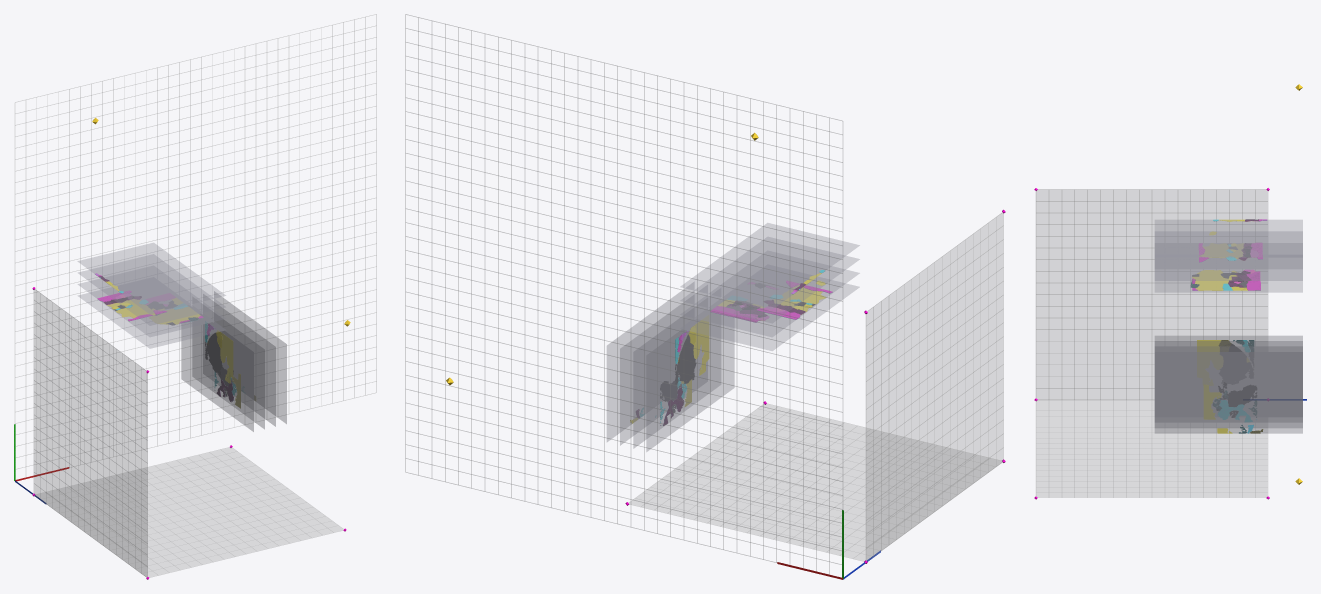
Rendered from shards.obj.
3 views of the same model, side by side, from view 1: azimuth 30°, elevation 25°; view 2: azimuth 150°, elevation 25°; view 3: azimuth 270°, elevation 25° (orthographic). The views are drawn at different scales.
Visible parts, largest first — view 1: wall_A, wall_B, grid_floor, panel_B3, panel_B2, panel_A0, panel_A1, panel_A3, panel_A2, panel_B1, panel_B0, Y (+4 smaller); view 2: wall_A, wall_B, grid_floor, panel_B3, panel_A0, panel_B2, panel_A1, panel_A3, panel_A2, panel_B1, panel_B0, grid_wallA (+4 smaller); view 3: wall_A, wall_B, panel_A2, panel_A3, panel_B2, panel_B3, grid_wallA, panel_B1, panel_B0, Y, K, panel_A1 (+4 smaller).
Part boxes in pixels (box(x1,y1,x2,y2)): wall_A: box(34, 290, 147, 576); wall_B: box(36, 447, 343, 577); grid_floor: box(15, 14, 376, 469); panel_B3: box(77, 243, 225, 313); panel_B2: box(78, 254, 225, 325); panel_A0: box(181, 322, 253, 431); panel_A1: box(192, 311, 264, 429); panel_A3: box(214, 291, 286, 423); panel_A2: box(203, 299, 275, 426); panel_B1: box(78, 279, 225, 336); panel_B0: box(78, 290, 225, 348); Y: box(105, 281, 255, 408); wall_A: box(866, 213, 1003, 560); wall_B: box(629, 404, 1001, 560); grid_floor: box(405, 14, 842, 574); panel_B3: box(680, 223, 859, 309); panel_A0: box(646, 319, 734, 451); panel_B2: box(680, 237, 859, 323); panel_A1: box(633, 305, 720, 448); panel_A3: box(607, 282, 694, 441); panel_A2: box(620, 292, 707, 445); panel_B1: box(680, 266, 859, 336); panel_B0: box(680, 280, 859, 350); grid_wallA: box(866, 212, 1003, 560); wall_A: box(1036, 190, 1267, 399); wall_B: box(1036, 400, 1267, 497); panel_A2: box(1155, 346, 1302, 427); panel_A3: box(1155, 352, 1302, 433); panel_B2: box(1155, 231, 1302, 268); panel_B3: box(1155, 220, 1302, 257); grid_wallA: box(1036, 189, 1267, 399); panel_B1: box(1155, 257, 1302, 280); panel_B0: box(1155, 269, 1302, 292); Y: box(1192, 219, 1262, 433); K: box(1190, 219, 1266, 433); panel_A1: box(1155, 341, 1302, 351).
Size of the model in its own units: 3318 by 3318 by 2115.
